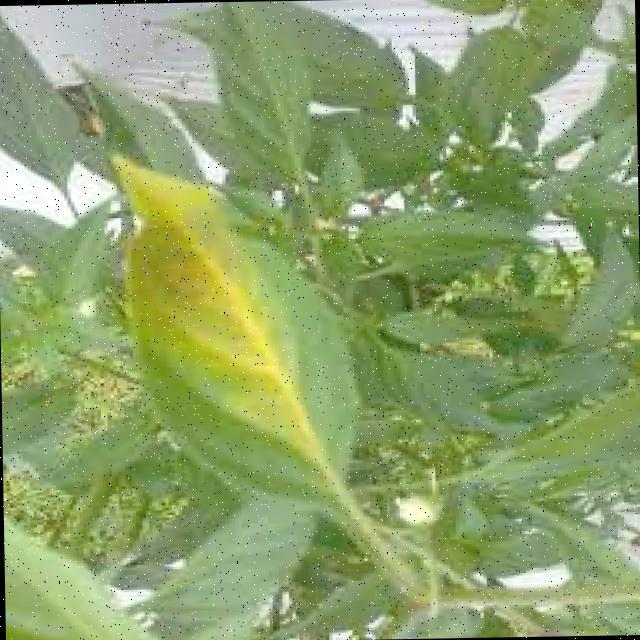yellow: (58, 109, 453, 592)
